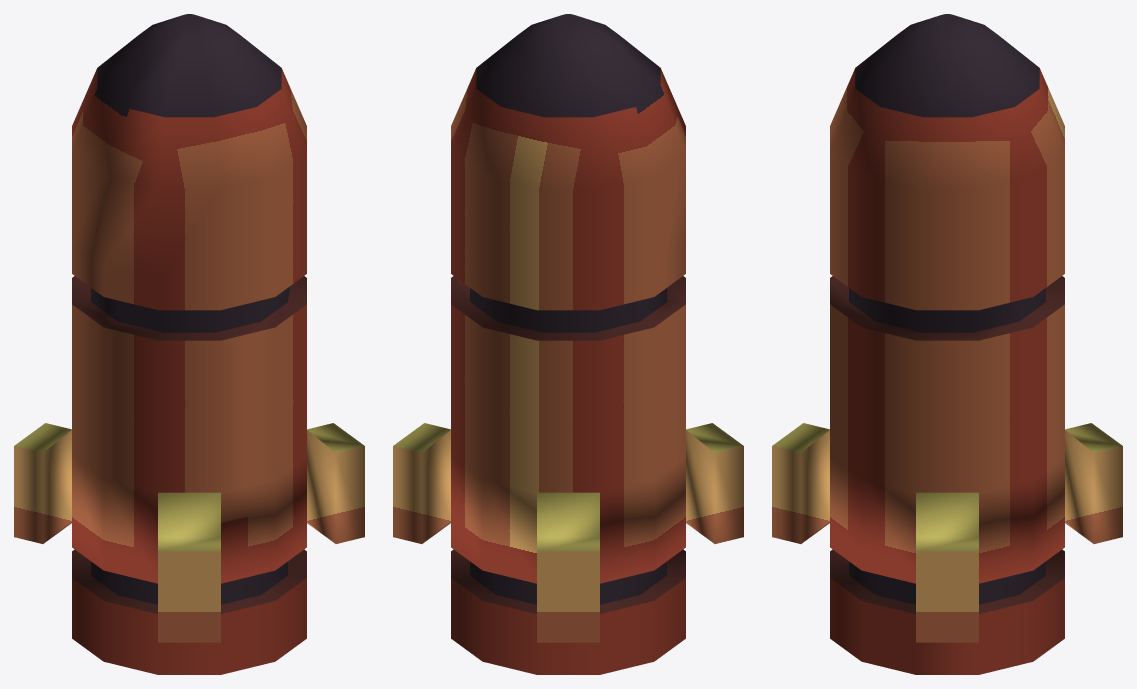
The model's file is rocket.fbx.
3 renders of one model, left to right at view 1: azimuth 30°, elevation 25°; view 2: azimuth 150°, elevation 25°; view 3: azimuth 270°, elevation 25°, orthographic.
Parts seen in each view (by area): view 1: rocket; view 2: rocket; view 3: rocket.
Part boxes in pixels (<box>): rocket: <box>14,14,364,674</box>; rocket: <box>393,14,743,674</box>; rocket: <box>772,14,1122,674</box>.
Size of the model in its own units: 56.64 by 125 by 65.4.
